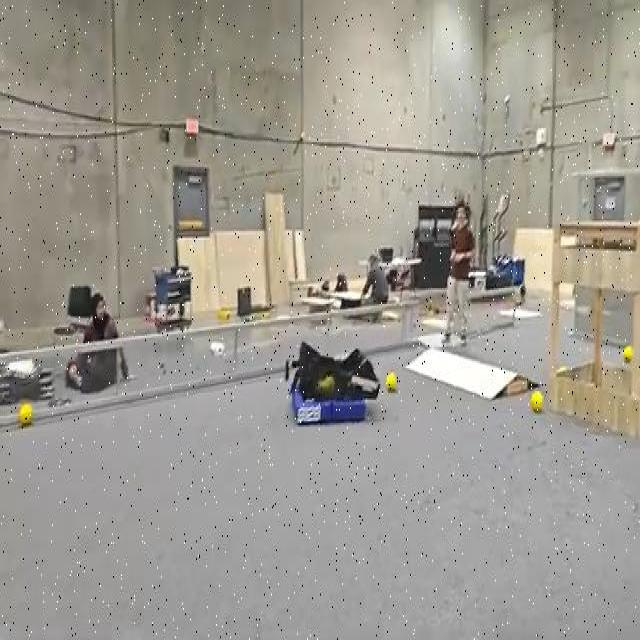Fuel: (18, 402, 32, 427), (18, 403, 32, 425), (530, 390, 543, 413), (530, 389, 543, 411), (385, 372, 397, 392), (386, 372, 396, 391), (624, 346, 634, 362), (623, 345, 632, 361)
